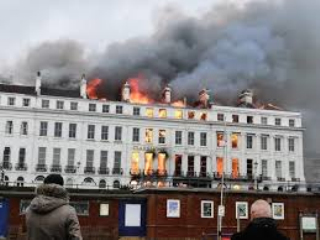fire: (217, 130, 242, 177), (126, 77, 149, 104), (86, 77, 107, 103)
smoke: (44, 7, 305, 92)
